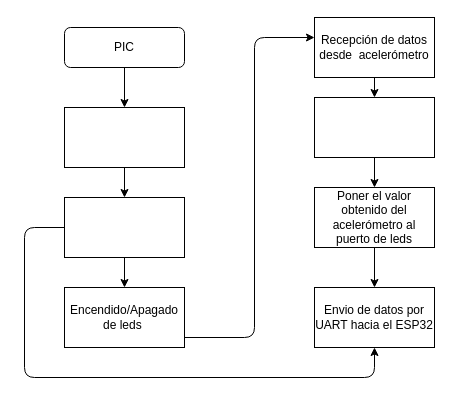
The diagram is 452 pixels wide and 403 high, and some of its shapes have lost their labels. The centre of each missing label's shape, as x and y in pixels:
"Conversión de valores I2C a binario" belongs at [374,127].
"Recepción de datos UART desde el ESP" belongs at [124,227].
"Seteado de puertos y comunicación UART e I2C" belongs at [124,137].
